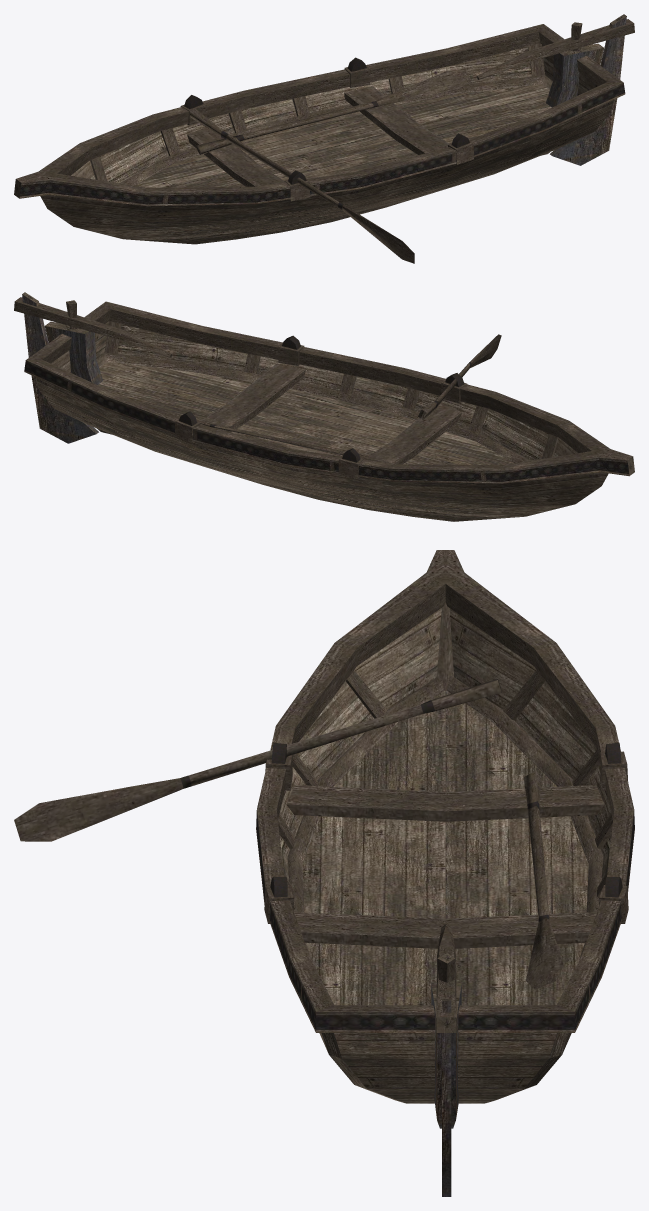
The model's file is eso_gu8_Boat5-transformed.glb.
The picture shows the model from 3 angles, top to bottom: view 1: azimuth 30°, elevation 25°; view 2: azimuth 150°, elevation 25°; view 3: azimuth 270°, elevation 25°; orthographic projection. The views are drawn at different scales.
Visible parts, largest first — view 1: default; view 2: default; view 3: default.
Part boxes in pixels (x1,y1,x2,y2): default: (14,14,634,263); default: (14,292,634,521); default: (14,550,634,1196).
Size of the model in its own units: 8.2 by 1.8 by 4.44.
1 material, 1 textured.
